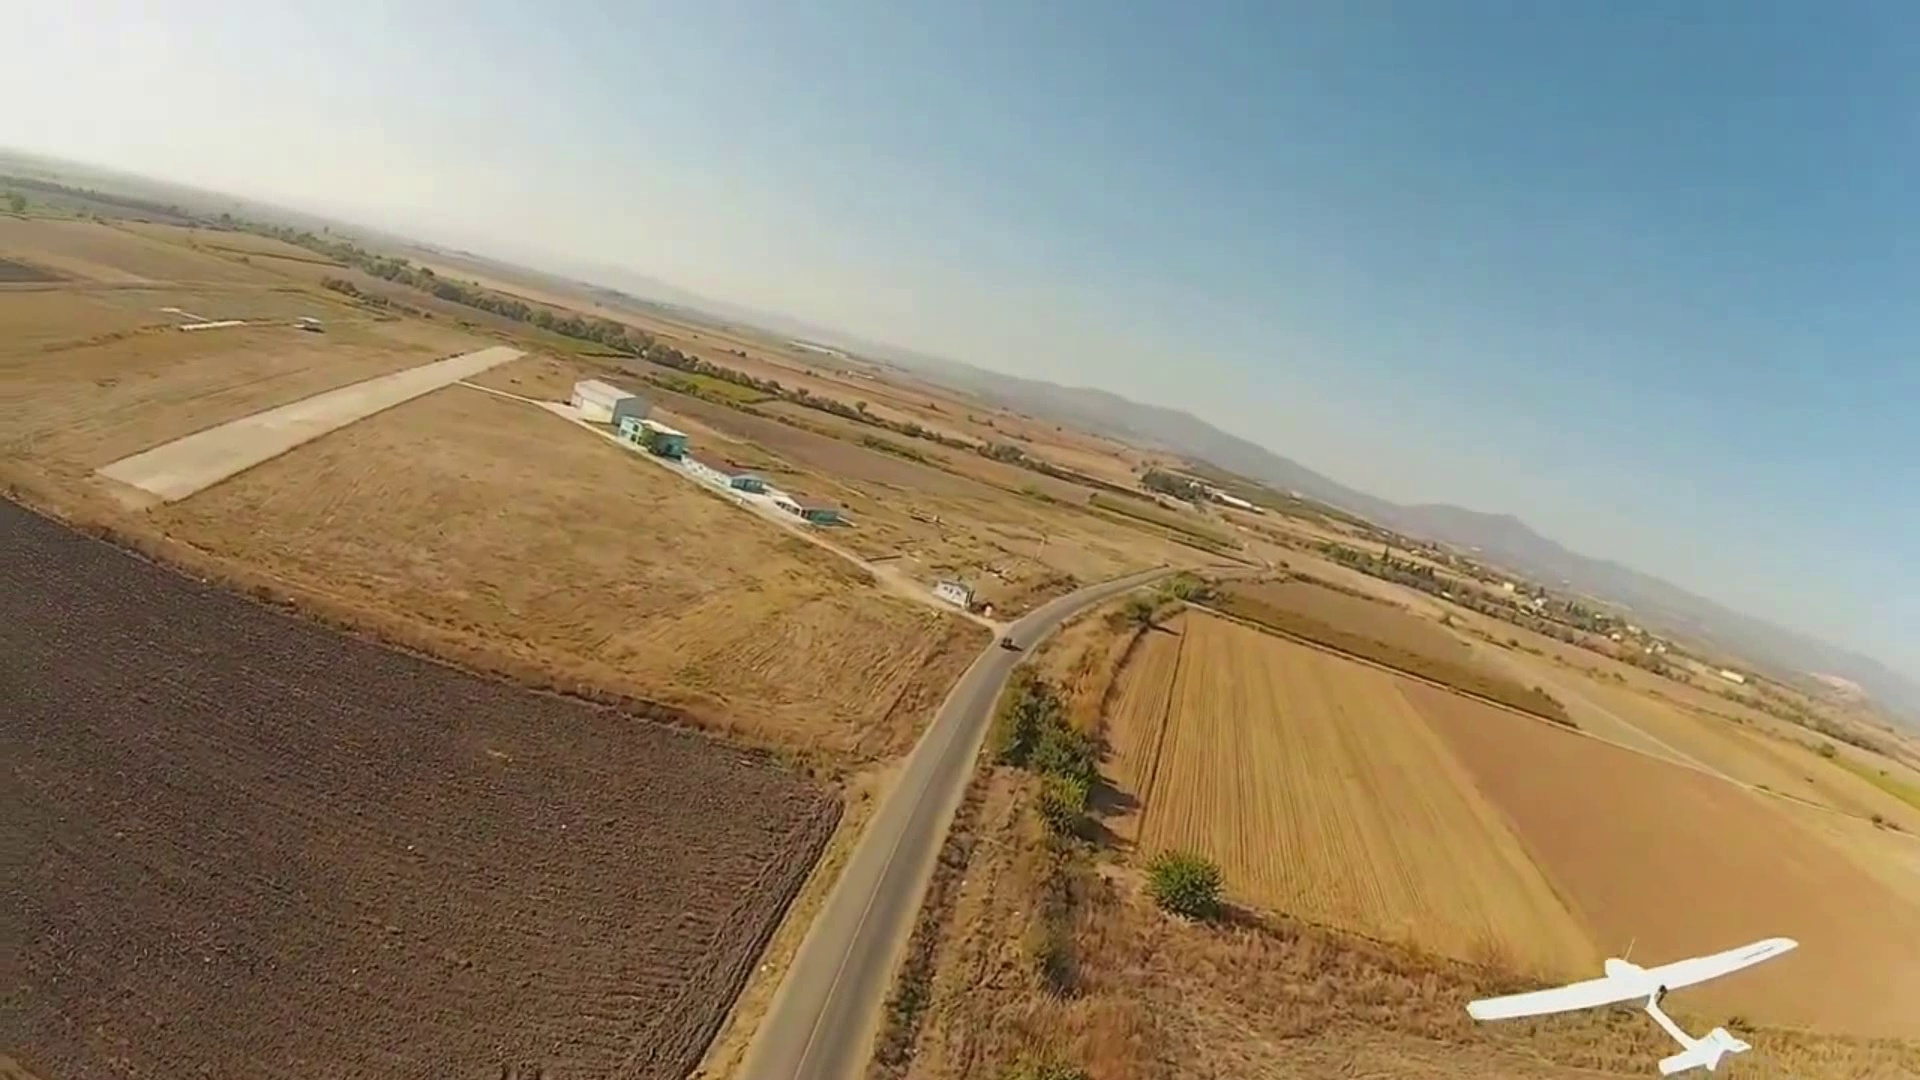airplane: (1464, 936, 1798, 1075)
